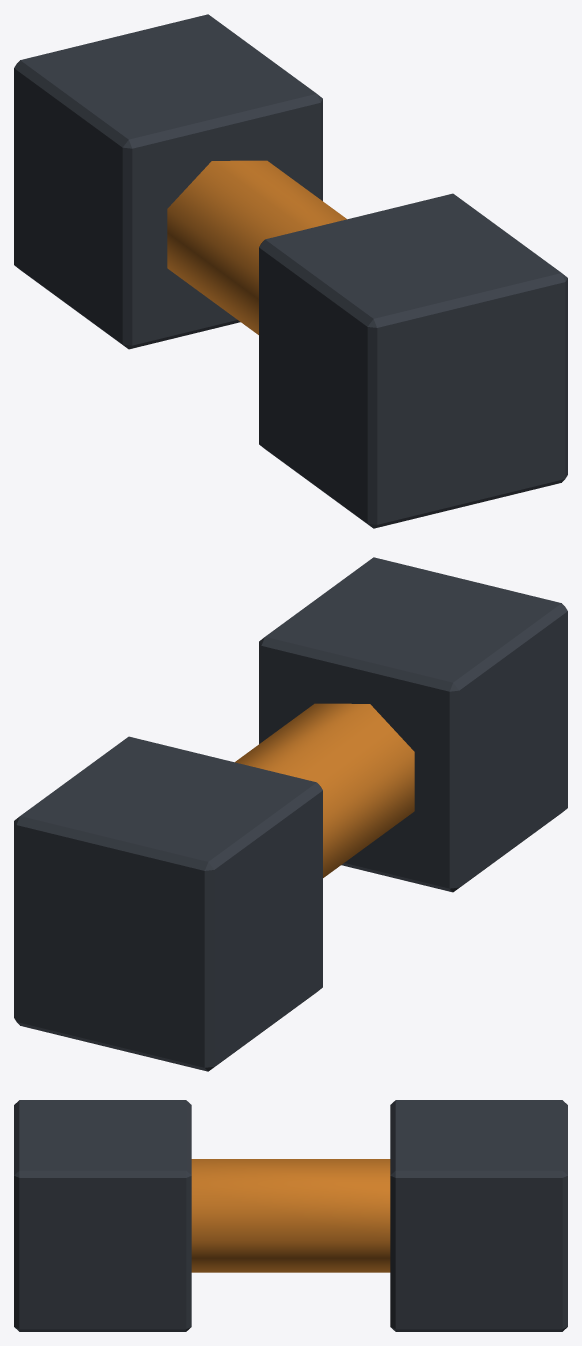
File: R4C_STRUT_STANDARD_LOD1.glb
3 renders of one model, top to bottom at view 1: azimuth 30°, elevation 25°; view 2: azimuth 150°, elevation 25°; view 3: azimuth 270°, elevation 25°, orthographic. The views are drawn at different scales.
Parts seen in each view (by area): view 1: R4C_STRUT_STANDARD_LOD1; view 2: R4C_STRUT_STANDARD_LOD1; view 3: R4C_STRUT_STANDARD_LOD1.
Part boxes in pixels (x1,y1,x2,y2): R4C_STRUT_STANDARD_LOD1: (14,14,567,528); R4C_STRUT_STANDARD_LOD1: (14,557,567,1071); R4C_STRUT_STANDARD_LOD1: (14,1100,567,1331).
Size of the model in its own units: 0.52 by 0.52 by 1.62.
